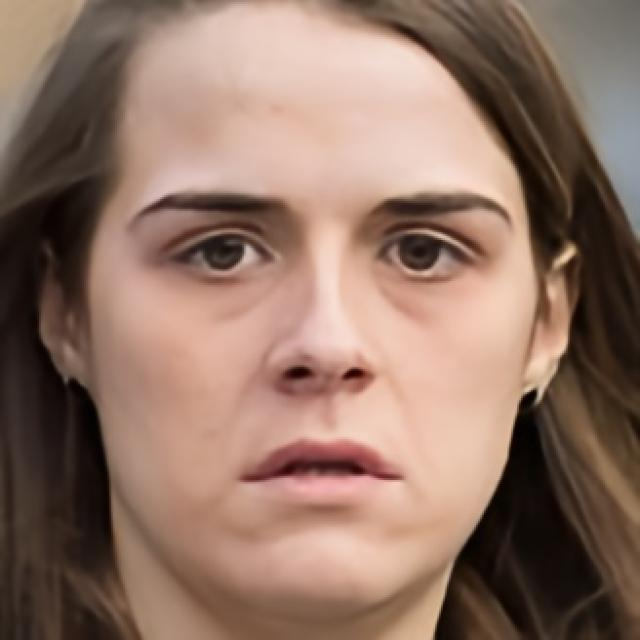disgust: (85, 0, 538, 624)
